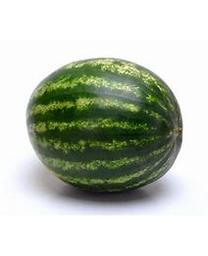watermelon: (26, 56, 184, 200)
